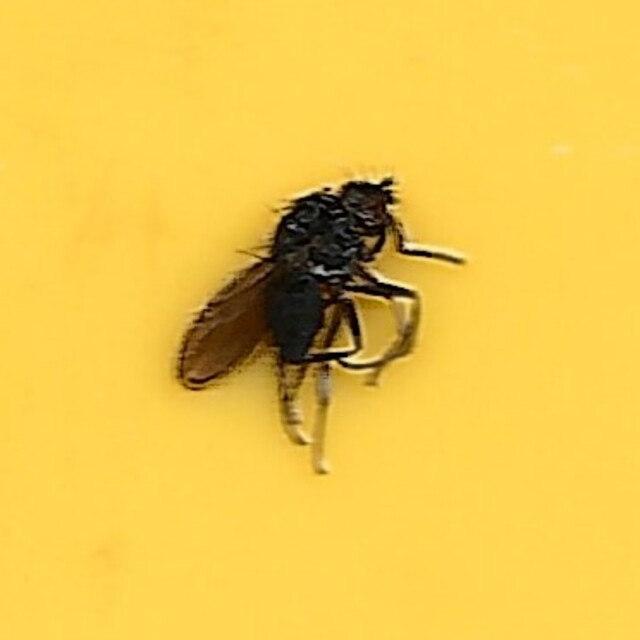Brachycera: (172, 166, 468, 474)
